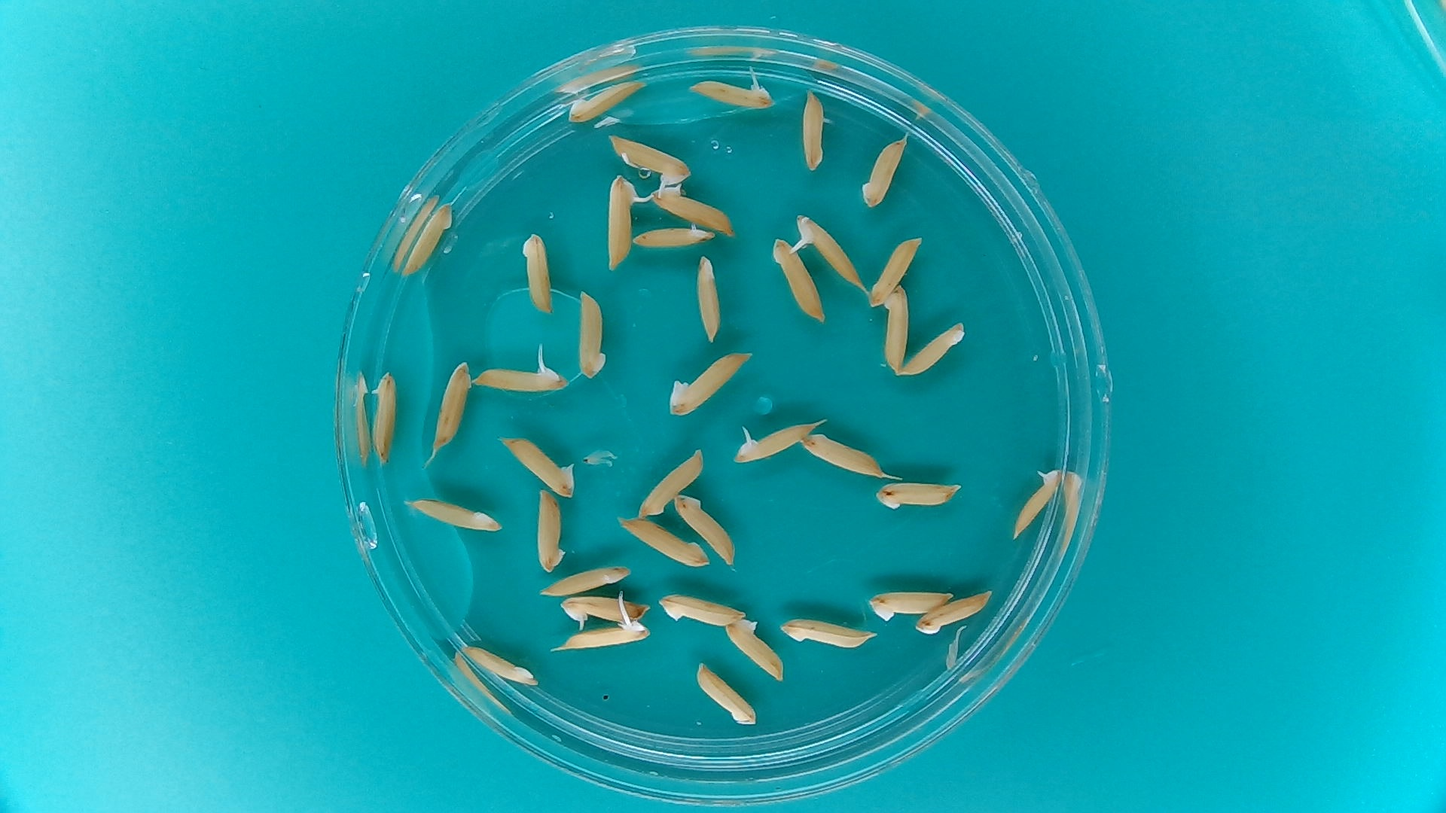no: (666, 346, 756, 419), (496, 432, 579, 498), (768, 234, 828, 324), (646, 181, 739, 236), (612, 516, 710, 568), (672, 490, 737, 566), (427, 356, 474, 461), (636, 446, 704, 518), (397, 201, 455, 282), (865, 231, 924, 309), (692, 659, 758, 726), (398, 492, 503, 534), (898, 317, 969, 379), (857, 131, 911, 212), (798, 431, 889, 479), (565, 75, 651, 125), (723, 617, 786, 684), (914, 586, 996, 636), (776, 614, 878, 652), (535, 561, 634, 600), (459, 641, 540, 688), (516, 227, 557, 317), (656, 589, 749, 627), (366, 368, 400, 467), (795, 85, 832, 175), (866, 586, 953, 623), (692, 252, 726, 346), (878, 282, 911, 376), (533, 489, 569, 574), (868, 482, 971, 510), (631, 221, 717, 251)
yes: (792, 209, 862, 289), (602, 131, 692, 187), (602, 171, 646, 273), (734, 416, 823, 464), (1011, 466, 1063, 540), (555, 615, 654, 653), (470, 361, 569, 396), (554, 594, 652, 629), (685, 75, 777, 112), (575, 286, 609, 382)
